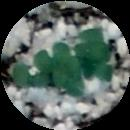Basil: (79, 26, 109, 64), (50, 72, 89, 96), (38, 42, 67, 69), (14, 68, 45, 89)
